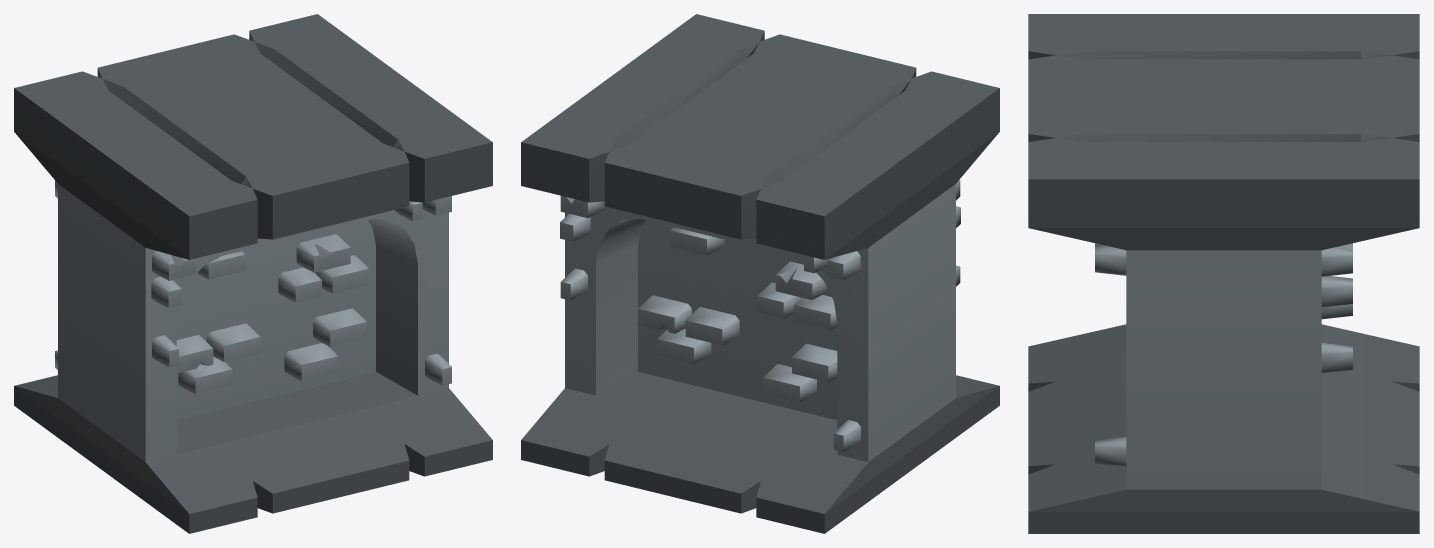
Rendered from wall_arched.glb.
The picture shows the model from 3 angles, left to right: view 1: azimuth 30°, elevation 25°; view 2: azimuth 150°, elevation 25°; view 3: azimuth 270°, elevation 25°; orthographic projection. The views are drawn at different scales.
Parts seen in each view (by area): view 1: wall_arched; view 2: wall_arched; view 3: wall_arched.
Boxes of the visible parts, x1,y1,x2,y2 form: wall_arched: (14, 14, 492, 533); wall_arched: (521, 14, 999, 533); wall_arched: (1028, 14, 1419, 533).
Bounding box in the file's own units: 1 × 1 × 1.
1 material, 1 textured.
